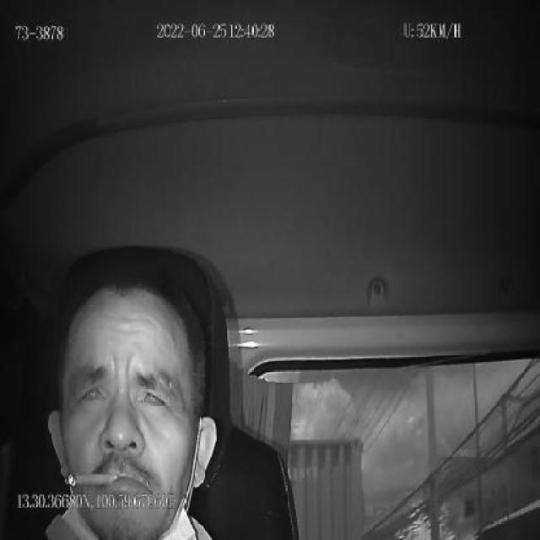smoking: (64, 470, 119, 487)
